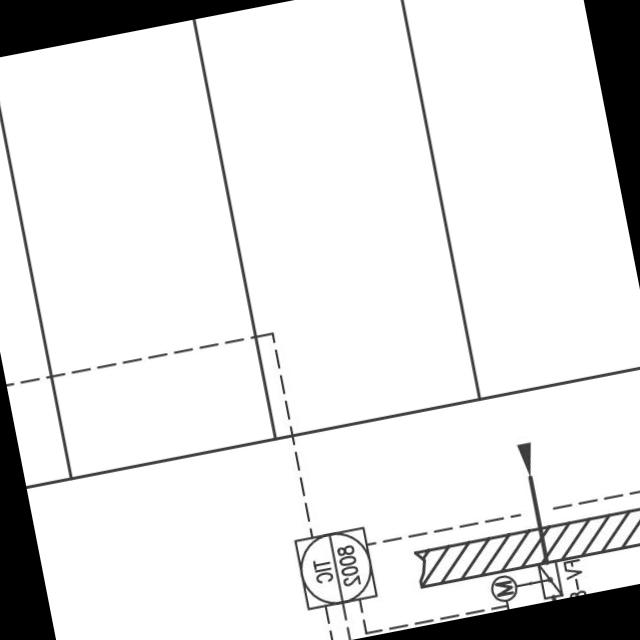CV2: (531, 558, 566, 602)
